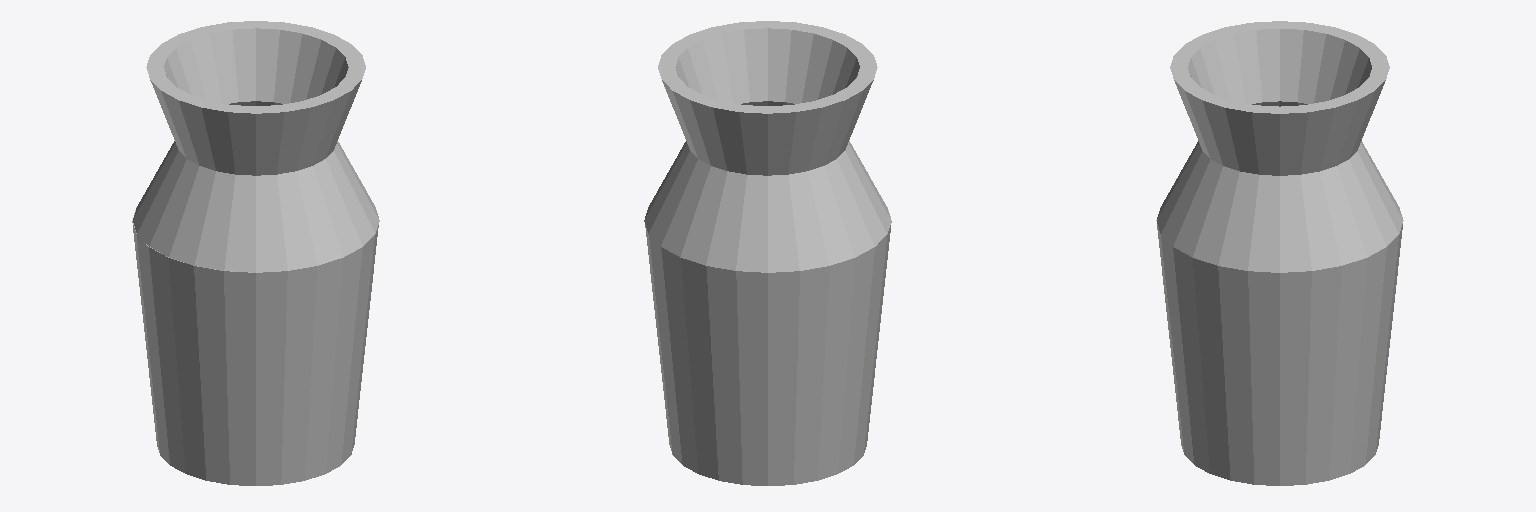
Rendered from dfpf.obj.
The picture shows the model from 3 angles: view 1: azimuth 30°, elevation 25°; view 2: azimuth 150°, elevation 25°; view 3: azimuth 270°, elevation 25°; orthographic projection.
Visible parts, largest first — view 1: Cone003; view 2: Cone003; view 3: Cone003.
Boxes of the visible parts, x1=… form: Cone003: x1=132, y1=21, x2=379, y2=485; Cone003: x1=644, y1=21, x2=891, y2=485; Cone003: x1=1156, y1=21, x2=1403, y2=485.
Size of the model in its own units: 47.61 by 80 by 47.5.